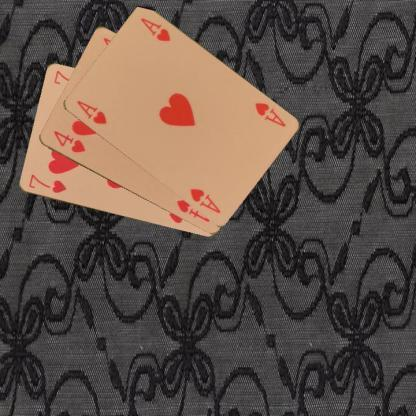4h: (50, 128, 87, 154)
7h: (26, 172, 67, 194)
Ah: (74, 98, 108, 126), (252, 100, 286, 128)
